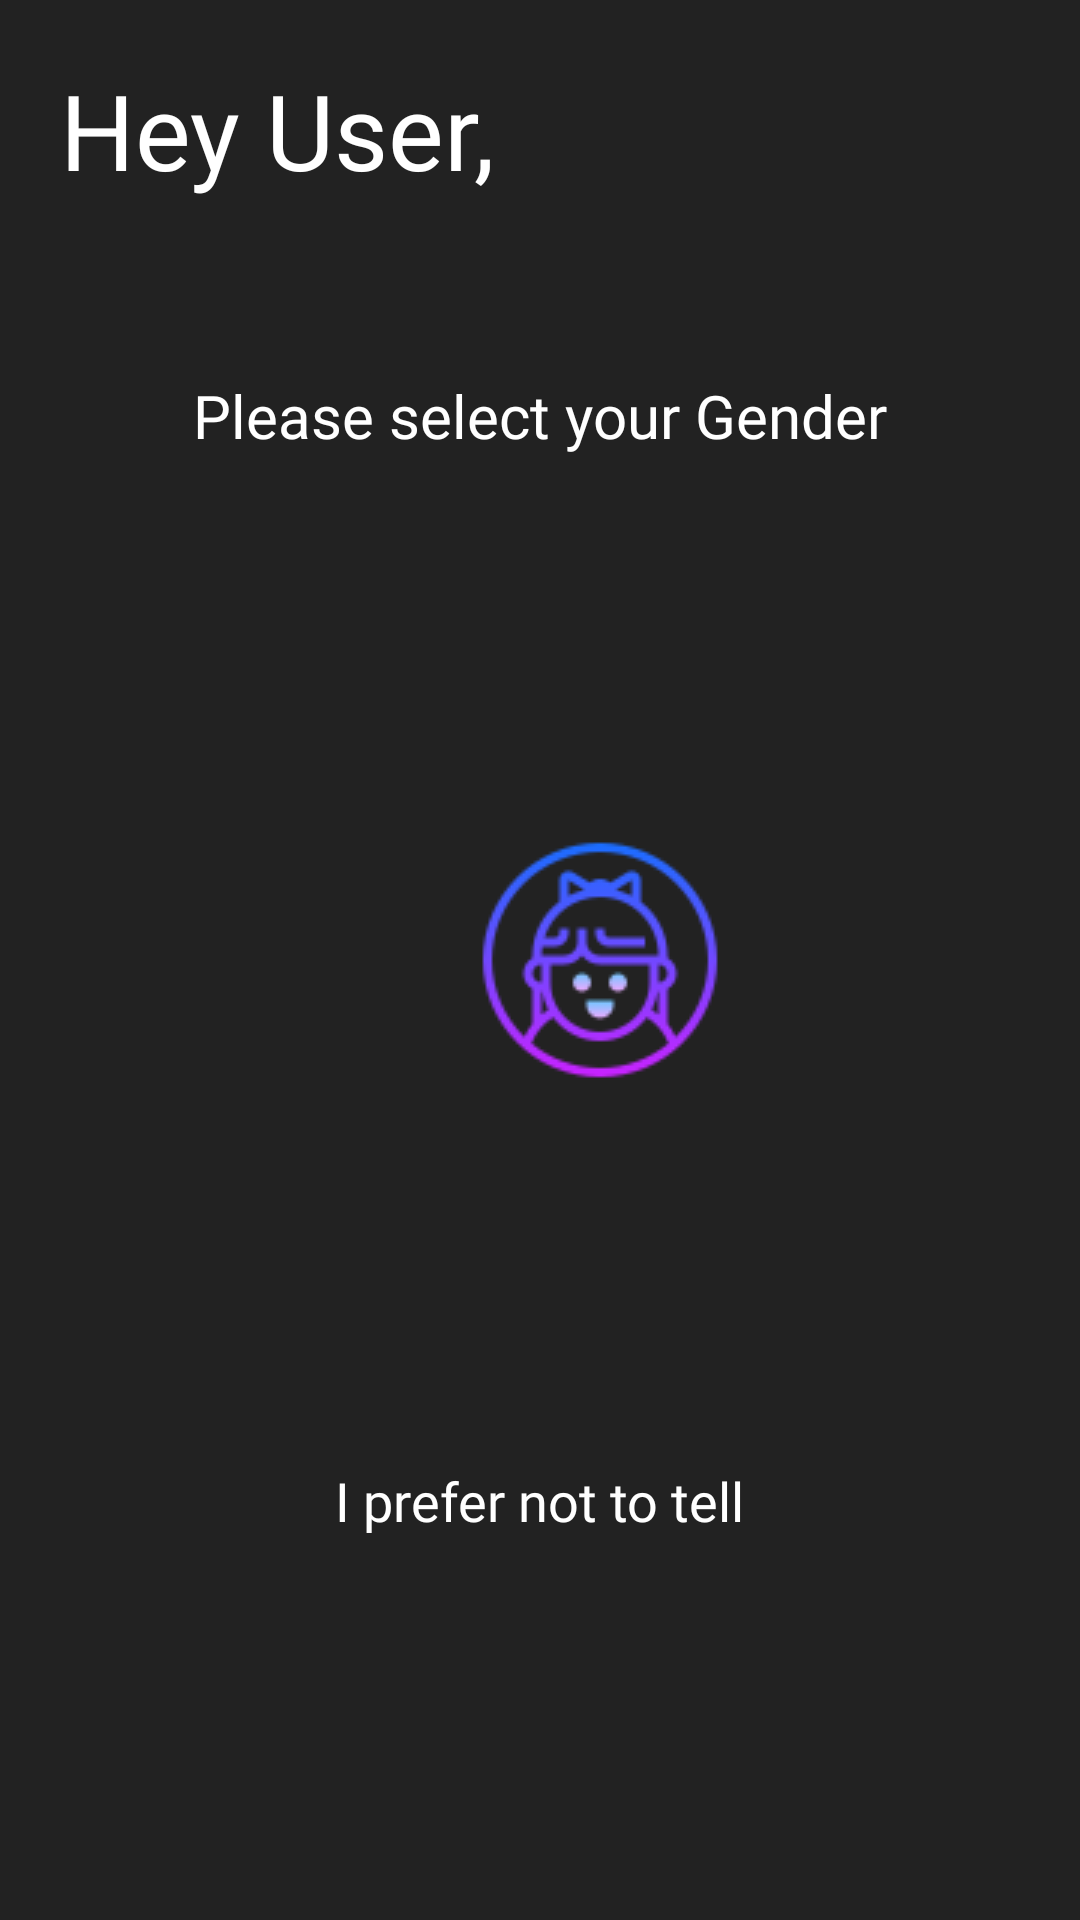

Point at icon controls on the screen. Image size 1080 x 1920, points as (x,y).
female: (600,960)
